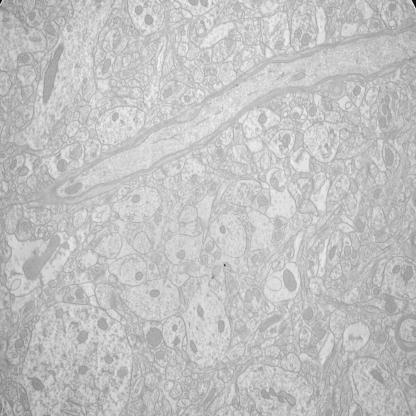mitochondria: (23, 234, 60, 278), (42, 42, 65, 104), (259, 314, 284, 332), (282, 268, 297, 292), (146, 326, 162, 348), (280, 390, 297, 407), (269, 386, 284, 404), (64, 181, 82, 195), (384, 146, 394, 166), (372, 369, 385, 384), (403, 265, 414, 281), (117, 366, 130, 379), (385, 94, 392, 118), (384, 302, 398, 314), (31, 377, 43, 391), (291, 72, 306, 83), (302, 307, 314, 320), (77, 330, 89, 343), (355, 218, 366, 232), (328, 244, 338, 259), (56, 160, 68, 172), (102, 58, 111, 74), (97, 318, 108, 331), (301, 32, 311, 46), (269, 177, 279, 190), (189, 340, 198, 354), (282, 134, 291, 148), (252, 288, 262, 300), (196, 304, 204, 318), (257, 196, 268, 206), (155, 350, 165, 361), (144, 14, 154, 25), (293, 28, 303, 39), (373, 188, 382, 200), (79, 364, 88, 376), (75, 288, 84, 300), (176, 250, 186, 260), (14, 339, 24, 349), (45, 24, 55, 34), (134, 5, 144, 15), (308, 106, 318, 116), (149, 289, 160, 298), (21, 53, 30, 64), (258, 113, 267, 124), (218, 319, 225, 333), (379, 116, 387, 128), (408, 374, 416, 386), (135, 270, 143, 282), (245, 290, 253, 302), (392, 264, 401, 274), (261, 389, 270, 399), (55, 309, 64, 319), (23, 222, 32, 232), (388, 3, 397, 12), (104, 356, 113, 365), (352, 86, 360, 96), (274, 231, 282, 241), (19, 328, 27, 338), (28, 12, 36, 22), (274, 40, 282, 50), (344, 246, 351, 257), (275, 218, 283, 227), (164, 89, 172, 98), (219, 224, 226, 234), (10, 160, 17, 170), (382, 104, 388, 115), (233, 4, 241, 12), (112, 112, 119, 121), (216, 148, 222, 158), (172, 323, 178, 332), (20, 392, 26, 401), (326, 6, 332, 15), (373, 288, 380, 295), (24, 402, 29, 411), (184, 95, 190, 102), (352, 252, 358, 259), (373, 22, 379, 28)
